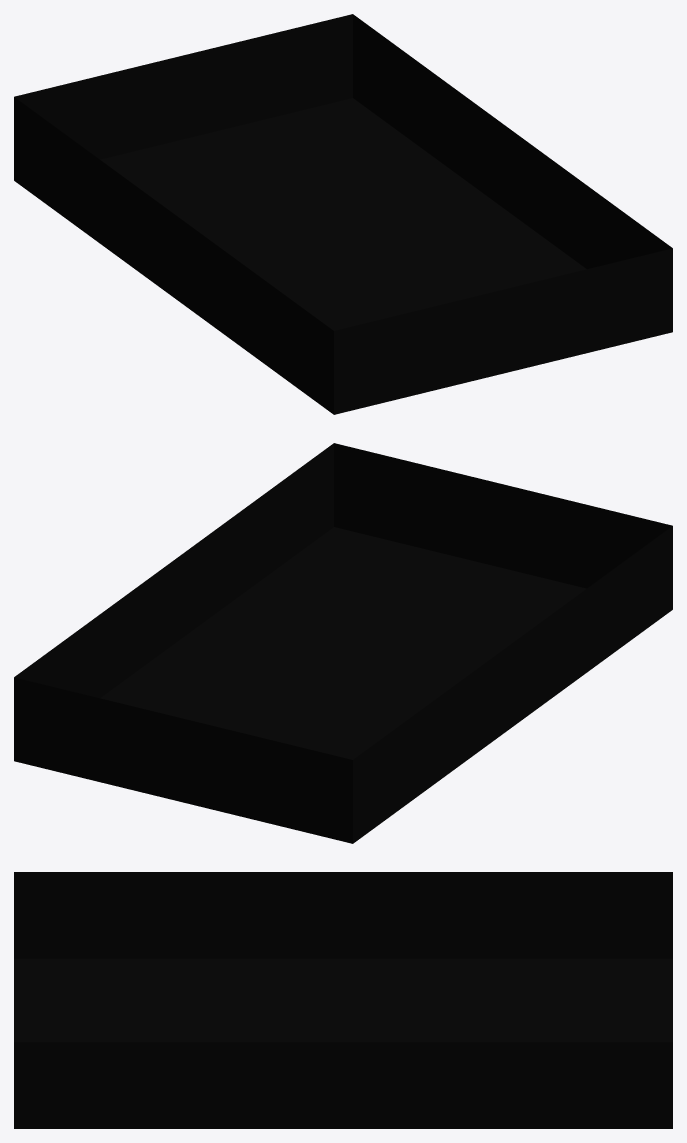
Rendered from PaperVHS16.obj.
3 views of the same model, one above another, from view 1: azimuth 30°, elevation 25°; view 2: azimuth 150°, elevation 25°; view 3: azimuth 270°, elevation 25° (orthographic). The views are drawn at different scales.
Parts seen in each view (by area): view 1: PaperVHS16_Cube.020; view 2: PaperVHS16_Cube.020; view 3: PaperVHS16_Cube.020.
Boxes of the visible parts, bbox=[...] form: PaperVHS16_Cube.020: bbox=[14, 14, 672, 414]; PaperVHS16_Cube.020: bbox=[14, 443, 672, 843]; PaperVHS16_Cube.020: bbox=[14, 872, 672, 1128].
Bounding box in the file's own units: 0.4069 × 0.0962 × 0.6654.
